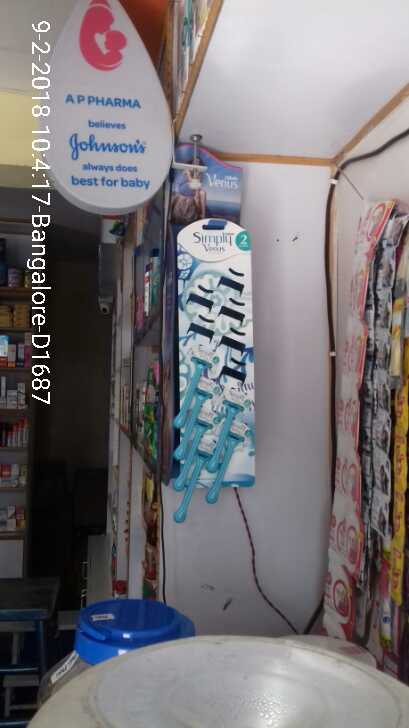reject: (111, 222, 264, 370)
